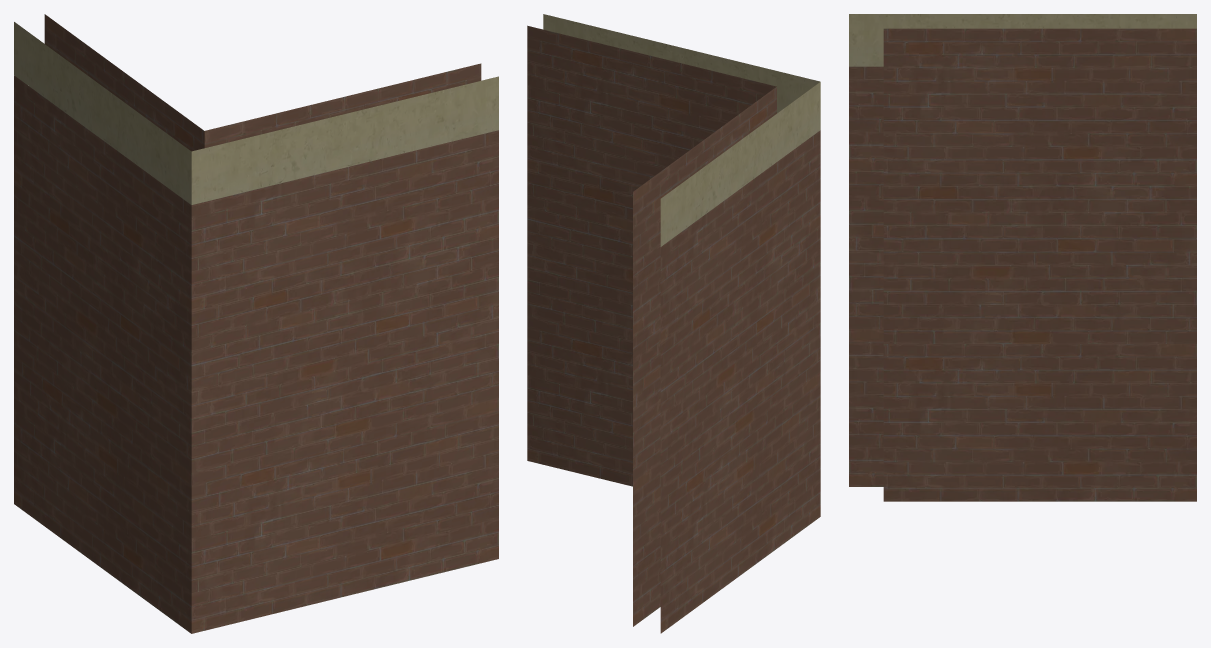
Rendered from Brick_TopTrim_Corner.glb.
3 renders of one model, left to right at view 1: azimuth 30°, elevation 25°; view 2: azimuth 150°, elevation 25°; view 3: azimuth 270°, elevation 25°, orthographic. The views are drawn at different scales.
Visible parts, largest first — view 1: Brick_TopTrim_Corner; view 2: Brick_TopTrim_Corner; view 3: Brick_TopTrim_Corner.
Boxes of the visible parts, x1,y1,x2,y2 form: Brick_TopTrim_Corner: (14, 14, 498, 633); Brick_TopTrim_Corner: (527, 14, 820, 633); Brick_TopTrim_Corner: (849, 14, 1196, 501).
Size of the model in its own units: 2 by 3 by 2.
Materials: 2 (2 with a texture image).
